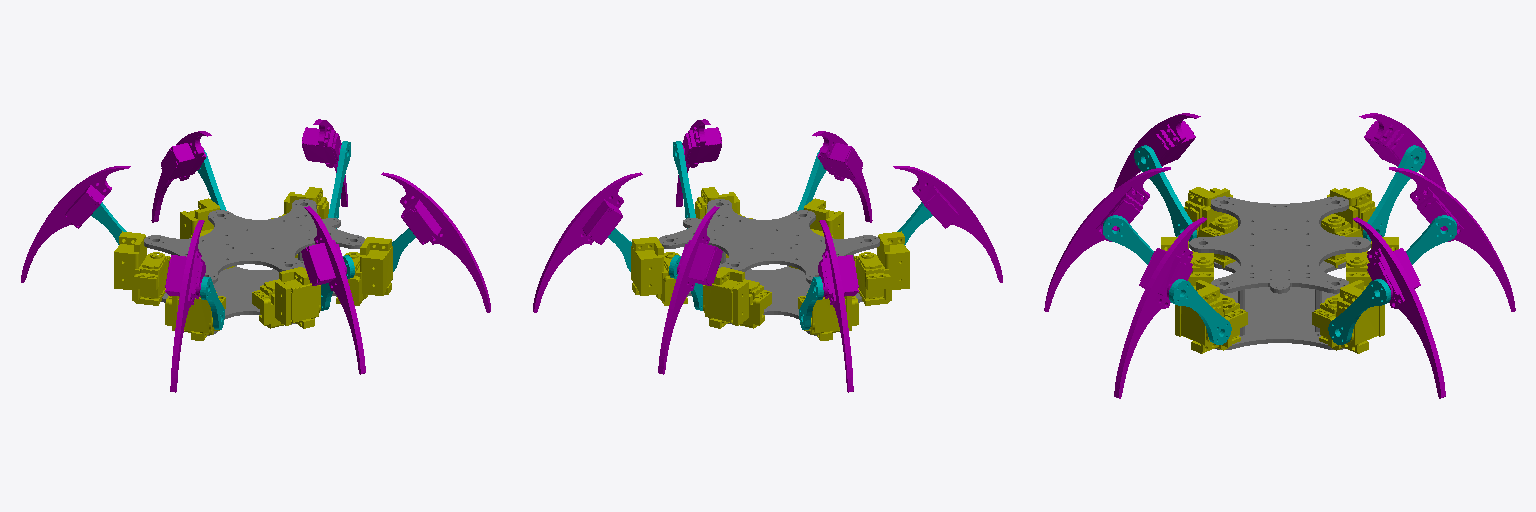
--- What the picture shows (computed from the rendered views, not written in the file) ---
Views: 3 orthographic renders of the robot side by side, from view 1: azimuth 30°, elevation 25°; view 2: azimuth 150°, elevation 25°; view 3: azimuth 270°, elevation 25°.
Model hexapod with 32 links and 31 joints (18 revolute, 13 fixed), rooted at base_link, posed every joint at zero.
Visible links, largest first — view 1: body, tibia_L1, coxa_L2, coxa_R3, tibia_L2, tibia_R3, tibia_L3, coxa_L1, tibia_R2, tibia_R1, coxa_L3, coxa_R2 (+4 smaller); view 2: body, tibia_R1, coxa_R2, coxa_L3, tibia_R2, tibia_L3, tibia_R3, coxa_R1, tibia_L2, tibia_L1, coxa_R3, coxa_L2 (+4 smaller); view 3: body, tibia_R1, tibia_L1, tibia_R2, tibia_L2, coxa_R1, coxa_L1, tibia_R3, tibia_L3, coxa_R3, coxa_L3, femur_R1 (+7 smaller).
Boxes of the visible links, box(x1,y1,x2,y2) form: body: box(144, 199, 364, 335); tibia_L1: box(381, 172, 490, 312); coxa_L2: box(252, 267, 320, 328); coxa_R3: box(114, 231, 170, 305); tibia_L2: box(301, 206, 365, 374); tibia_R3: box(21, 166, 130, 282); tibia_L3: box(165, 220, 205, 392); coxa_L1: box(336, 237, 392, 305); tibia_R2: box(151, 131, 211, 222); tibia_R1: box(302, 119, 347, 206); coxa_L3: box(165, 292, 225, 340); coxa_R2: box(180, 198, 234, 269); body: box(659, 199, 879, 335); tibia_R1: box(533, 172, 642, 312); coxa_R2: box(703, 267, 771, 328); coxa_L3: box(854, 231, 909, 305); tibia_R2: box(658, 206, 722, 374); tibia_L3: box(893, 166, 1002, 282); tibia_R3: box(818, 220, 858, 392); coxa_R1: box(631, 237, 687, 305); tibia_L2: box(812, 131, 872, 222); tibia_L1: box(676, 119, 721, 206); coxa_R3: box(798, 292, 858, 340); coxa_L2: box(789, 198, 843, 269); body: box(1189, 196, 1370, 349); tibia_R1: box(1353, 217, 1445, 398); tibia_L1: box(1114, 217, 1206, 398); tibia_R2: box(1389, 167, 1515, 311); tibia_L2: box(1044, 167, 1170, 311); coxa_R1: box(1312, 280, 1384, 353); coxa_L1: box(1175, 280, 1247, 353); tibia_R3: box(1359, 113, 1446, 190); tibia_L3: box(1113, 113, 1200, 190); coxa_R3: box(1321, 187, 1375, 267); coxa_L3: box(1184, 187, 1237, 267); femur_R1: box(1328, 279, 1390, 344).
Bounding box of the posed robot: 0.3835 × 0.4289 × 0.1431 m (x, y, z).
Meshes: 7 distinct files referenced, 19 mesh visuals loaded (7 binary STL).

The robot description file, URDF, robot "hexapod":
<?xml version="1.0" encoding="utf-8" ?>
<!-- =================================================================================== -->
<!-- |    This document was autogenerated by xacro from [local-path]/hexapod/src/hexapod_description/models/hexapod_model.xacro | -->
<!-- |    EDITING THIS FILE BY HAND IS NOT RECOMMENDED                                 | -->
<!-- =================================================================================== -->
<robot name="hexapod">
    <!-- Robot Frame -->
    <link name="base_link" />
    <joint name="base_joint" type="fixed">
        <parent link="base_link" />
        <child link="body" />
        <origin rpy="0 0 0" xyz="0 0 0" />
    </joint>
    <link name="body">
        
<inertial>
            <mass value="0.8" />
            <inertia ixx="0.007" ixy="0" ixz="0" iyy="0.012" iyz="0" izz="0.010" />
        </inertial>

        <visual>
            <origin rpy="0 0 0" xyz="0 0 0" />
            <geometry>
                <mesh filename="package://hexapod_description/meshes/BODY.stl" />
            </geometry>
            <material name="grey">
                <color rgba="0.5 0.5 0.5 1" />
            </material>
        </visual>
        <collision>
            <origin rpy="0 0 0" xyz="0 0 0" />
            <geometry>
                <mesh filename="package://hexapod_description/meshes/BODY_SIMPLIFIED.stl" />
            </geometry>
        </collision>
    </link>
    <!-- Construindo a perna [Building a leg]-->
    <joint name="leg_center_joint_R1" type="fixed">
        <origin rpy="0 0 0" xyz="0.0875 0.050175 0" />
        <parent link="body" />
        <child link="leg_center_R1" />
    </joint>
    <link name="leg_center_R1" />
    <joint name="coxa_joint_R1" type="revolute">
        <origin rpy="0 0 2.35619449019" xyz="0 0 0" />
        <parent link="leg_center_R1" />
        <child link="coxa_R1" />
        <axis xyz="0 0 -1" />
        <limit effort="10000" lower="-1.5" upper="1.5" velocity="100" />
    </joint>
    <link name="coxa_R1">
        
<inertial>
            <mass value="0.5" />
            <inertia ixx="0.001" ixy="0" ixz="0" iyy="0" iyz="0" izz="0.001" />
        </inertial>

        <visual>
            <origin rpy="0 0 0" xyz="0 0 0" />
            <geometry>
                <mesh filename="package://hexapod_description/meshes/COXA_R.stl" />
            </geometry>
            <material name="">
                <color rgba="0.7 0.7 0 1" />
            </material>
        </visual>
        <collision>
            <origin rpy="0 0 0" xyz="0 0 0" />
            <geometry>
                <mesh filename="package://hexapod_description/meshes/COXA_R_SIMPLIFIED.stl" />
            </geometry>
        </collision>
    </link>
    <joint name="femur_joint_R1" type="revolute">
        <origin rpy="-0.9 0 0" xyz="-0.022 -0.028 0.0274" />
        <parent link="coxa_R1" />
        <child link="femur_R1" />
        <axis xyz="-1 0 0" />
        <limit effort="10000" lower="-0.52" upper="0.61" velocity="100" />
    </joint>
    <link name="femur_R1">
        
<inertial>
            <mass value="0.05" />
            <inertia ixx="0" ixy="0" ixz="0" iyy="0" iyz="0" izz="0" />
        </inertial>

        <visual>
            <origin rpy="0 0 0" xyz="0 0 0" />
            <geometry>
                <mesh filename="package://hexapod_description/meshes/FEMUR_R.stl" />
            </geometry>
            <material name="">
                <color rgba="0 0.7 0.7 1" />
            </material>
        </visual>
        <collision>
            <origin rpy="0 0 0" xyz="0 0 0" />
            <geometry>
                <mesh filename="package://hexapod_description/meshes/FEMUR_R_SIMPLIFIED.stl" />
            </geometry>
        </collision>
    </link>
    <joint name="tibia_joint_R1" type="revolute">
        <origin rpy="1.3 0 0" xyz="0.003 -0.0765 -0.0055" />
        <parent link="femur_R1" />
        <child link="tibia_R1" />
        <axis xyz="1 0 0" />
        <limit effort="10000" lower="-0.87" upper="1.22" velocity="100" />
    </joint>
    <link name="tibia_R1">
        
<inertial>
            <mass value="0.2" />
            <inertia ixx="0" ixy="0" ixz="0" iyy="0" iyz="0" izz="0" />
        </inertial>

        <visual>
            <origin rpy="0 0 0" xyz="0 0 0" />
            <geometry>
                <mesh filename="package://hexapod_description/meshes/TIBIA_R.stl" />
            </geometry>
            <material name="">
                <color rgba="0.7 0 0.7 1" />
            </material>
        </visual>
        <collision>
            <origin rpy="0 0 0" xyz="0 0 0" />
            <geometry>
                <mesh filename="package://hexapod_description/meshes/TIBIA_R_SIMPLIFIED.stl" />
            </geometry>
        </collision>
    </link>
    <joint name="tibia_foot_joint_R1" type="fixed">
        <origin rpy="0 0 0" xyz="0 0.100 -0.094" />
        <parent link="tibia_R1" />
        <child link="tibia_foot_R1" />
    </joint>
    <link name="tibia_foot_R1" />
    <!-- Construindo a perna [Building a leg]-->
    <joint name="leg_center_joint_R2" type="fixed">
        <origin rpy="0 0 0" xyz="0 0.07 0" />
        <parent link="body" />
        <child link="leg_center_R2" />
    </joint>
    <link name="leg_center_R2" />
    <joint name="coxa_joint_R2" type="revolute">
        <origin rpy="0 0 3.14159265359" xyz="0 0 0" />
        <parent link="leg_center_R2" />
        <child link="coxa_R2" />
        <axis xyz="0 0 -1" />
        <limit effort="10000" lower="-1.5" upper="1.5" velocity="100" />
    </joint>
    <link name="coxa_R2">
        
<inertial>
            <mass value="0.5" />
            <inertia ixx="0.001" ixy="0" ixz="0" iyy="0" iyz="0" izz="0.001" />
        </inertial>

        <visual>
            <origin rpy="0 0 0" xyz="0 0 0" />
            <geometry>
                <mesh filename="package://hexapod_description/meshes/COXA_R.stl" />
            </geometry>
            <material name="">
                <color rgba="0.7 0.7 0 1" />
            </material>
        </visual>
        <collision>
            <origin rpy="0 0 0" xyz="0 0 0" />
            <geometry>
                <mesh filename="package://hexapod_description/meshes/COXA_R_SIMPLIFIED.stl" />
            </geometry>
        </collision>
    </link>
    <joint name="femur_joint_R2" type="revolute">
        <origin rpy="-0.9 0 0" xyz="-0.022 -0.028 0.0274" />
        <parent link="coxa_R2" />
        <child link="femur_R2" />
        <axis xyz="-1 0 0" />
        <limit effort="10000" lower="-0.52" upper="0.61" velocity="100" />
    </joint>
    <link name="femur_R2">
        
<inertial>
            <mass value="0.05" />
            <inertia ixx="0" ixy="0" ixz="0" iyy="0" iyz="0" izz="0" />
        </inertial>

        <visual>
            <origin rpy="0 0 0" xyz="0 0 0" />
            <geometry>
                <mesh filename="package://hexapod_description/meshes/FEMUR_R.stl" />
            </geometry>
            <material name="">
                <color rgba="0 0.7 0.7 1" />
            </material>
        </visual>
        <collision>
            <origin rpy="0 0 0" xyz="0 0 0" />
            <geometry>
                <mesh filename="package://hexapod_description/meshes/FEMUR_R_SIMPLIFIED.stl" />
            </geometry>
        </collision>
    </link>
    <joint name="tibia_joint_R2" type="revolute">
        <origin rpy="1.3 0 0" xyz="0.003 -0.0765 -0.0055" />
        <parent link="femur_R2" />
        <child link="tibia_R2" />
        <axis xyz="1 0 0" />
        <limit effort="10000" lower="-0.87" upper="1.22" velocity="100" />
    </joint>
    <link name="tibia_R2">
        
<inertial>
            <mass value="0.2" />
            <inertia ixx="0" ixy="0" ixz="0" iyy="0" iyz="0" izz="0" />
        </inertial>

        <visual>
            <origin rpy="0 0 0" xyz="0 0 0" />
            <geometry>
                <mesh filename="package://hexapod_description/meshes/TIBIA_R.stl" />
            </geometry>
            <material name="">
                <color rgba="0.7 0 0.7 1" />
            </material>
        </visual>
        <collision>
            <origin rpy="0 0 0" xyz="0 0 0" />
            <geometry>
                <mesh filename="package://hexapod_description/meshes/TIBIA_R_SIMPLIFIED.stl" />
            </geometry>
        </collision>
    </link>
    <joint name="tibia_foot_joint_R2" type="fixed">
        <origin rpy="0 0 0" xyz="0 0.100 -0.094" />
        <parent link="tibia_R2" />
        <child link="tibia_foot_R2" />
    </joint>
    <link name="tibia_foot_R2" />
    <!-- Construindo a perna [Building a leg]-->
    <joint name="leg_center_joint_R3" type="fixed">
        <origin rpy="0 0 0" xyz="-0.0875 0.050175 0" />
        <parent link="body" />
        <child link="leg_center_R3" />
    </joint>
    <link name="leg_center_R3" />
    <joint name="coxa_joint_R3" type="revolute">
        <origin rpy="0 0 3.92699081699" xyz="0 0 0" />
        <parent link="leg_center_R3" />
        <child link="coxa_R3" />
        <axis xyz="0 0 -1" />
        <limit effort="10000" lower="-1.5" upper="1.5" velocity="100" />
    </joint>
    <link name="coxa_R3">
        
<inertial>
            <mass value="0.5" />
            <inertia ixx="0.001" ixy="0" ixz="0" iyy="0" iyz="0" izz="0.001" />
        </inertial>

        <visual>
            <origin rpy="0 0 0" xyz="0 0 0" />
            <geometry>
                <mesh filename="package://hexapod_description/meshes/COXA_R.stl" />
            </geometry>
            <material name="">
                <color rgba="0.7 0.7 0 1" />
            </material>
        </visual>
        <collision>
            <origin rpy="0 0 0" xyz="0 0 0" />
            <geometry>
                <mesh filename="package://hexapod_description/meshes/COXA_R_SIMPLIFIED.stl" />
            </geometry>
        </collision>
    </link>
    <joint name="femur_joint_R3" type="revolute">
        <origin rpy="-0.9 0 0" xyz="-0.022 -0.028 0.0274" />
        <parent link="coxa_R3" />
        <child link="femur_R3" />
        <axis xyz="-1 0 0" />
        <limit effort="10000" lower="-0.52" upper="0.61" velocity="100" />
    </joint>
    <link name="femur_R3">
        
<inertial>
            <mass value="0.05" />
            <inertia ixx="0" ixy="0" ixz="0" iyy="0" iyz="0" izz="0" />
        </inertial>

        <visual>
            <origin rpy="0 0 0" xyz="0 0 0" />
            <geometry>
                <mesh filename="package://hexapod_description/meshes/FEMUR_R.stl" />
            </geometry>
            <material name="">
                <color rgba="0 0.7 0.7 1" />
            </material>
        </visual>
        <collision>
            <origin rpy="0 0 0" xyz="0 0 0" />
            <geometry>
                <mesh filename="package://hexapod_description/meshes/FEMUR_R_SIMPLIFIED.stl" />
            </geometry>
        </collision>
    </link>
    <joint name="tibia_joint_R3" type="revolute">
        <origin rpy="1.3 0 0" xyz="0.003 -0.0765 -0.0055" />
        <parent link="femur_R3" />
        <child link="tibia_R3" />
        <axis xyz="1 0 0" />
        <limit effort="10000" lower="-0.87" upper="1.22" velocity="100" />
    </joint>
    <link name="tibia_R3">
        
<inertial>
            <mass value="0.2" />
            <inertia ixx="0" ixy="0" ixz="0" iyy="0" iyz="0" izz="0" />
        </inertial>

        <visual>
            <origin rpy="0 0 0" xyz="0 0 0" />
            <geometry>
                <mesh filename="package://hexapod_description/meshes/TIBIA_R.stl" />
            </geometry>
            <material name="">
                <color rgba="0.7 0 0.7 1" />
            </material>
        </visual>
        <collision>
            <origin rpy="0 0 0" xyz="0 0 0" />
            <geometry>
                <mesh filename="package://hexapod_description/meshes/TIBIA_R_SIMPLIFIED.stl" />
            </geometry>
        </collision>
    </link>
    <joint name="tibia_foot_joint_R3" type="fixed">
        <origin rpy="0 0 0" xyz="0 0.100 -0.094" />
        <parent link="tibia_R3" />
        <child link="tibia_foot_R3" />
    </joint>
    <link name="tibia_foot_R3" />
    <!-- Construindo a perna [Building a leg]-->
    <joint name="leg_center_joint_L1" type="fixed">
        <origin rpy="0 0 0" xyz="0.0875 -0.050175 0" />
        <parent link="body" />
        <child link="leg_center_L1" />
    </joint>
    <link name="leg_center_L1" />
    <joint name="coxa_joint_L1" type="revolute">
        <origin rpy="0 0 -2.35619449019" xyz="0 0 0" />
        <parent link="leg_center_L1" />
        <child link="coxa_L1" />
        <axis xyz="0 0 -1" />
        <limit effort="10000" lower="-1.5" upper="1.5" velocity="100" />
    </joint>
    <link name="coxa_L1">
        
<inertial>
            <mass value="0.5" />
            <inertia ixx="0.001" ixy="0" ixz="0" iyy="0" iyz="0" izz="0.001" />
        </inertial>

        <visual>
            <origin rpy="0 0 0" xyz="0 0 0" />
            <geometry>
                <mesh filename="package://hexapod_description/meshes/COXA_L.stl" />
            </geometry>
            <material name="">
                <color rgba="0.7 0.7 0 1" />
            </material>
        </visual>
        <collision>
            <origin rpy="0 0 0" xyz="0 0 0" />
            <geometry>
                <mesh filename="package://hexapod_description/meshes/COXA_L_SIMPLIFIED.stl" />
            </geometry>
        </collision>
    </link>
    <joint name="femur_joint_L1" type="revolute">
        <origin rpy="0.9 0 0" xyz="-0.022 0.028 0.0274" />
        <parent link="coxa_L1" />
        <child link="femur_L1" />
        <axis xyz="-1 0 0" />
        <limit effort="10000" lower="-0.52" upper="0.61" velocity="100" />
    </joint>
    <link name="femur_L1">
        
<inertial>
            <mass value="0.05" />
            <inertia ixx="0" ixy="0" ixz="0" iyy="0" iyz="0" izz="0" />
        </inertial>

        <visual>
            <origin rpy="0 0 0" xyz="0 0 0" />
            <geometry>
                <mesh filename="package://hexapod_description/meshes/FEMUR_L.stl" />
            </geometry>
            <material name="">
                <color rgba="0 0.7 0.7 1" />
            </material>
        </visual>
        <collision>
            <origin rpy="0 0 0" xyz="0 0 0" />
            <geometry>
                <mesh filename="package://hexapod_description/meshes/FEMUR_L_SIMPLIFIED.stl" />
            </geometry>
        </collision>
    </link>
    <joint name="tibia_joint_L1" type="revolute">
        <origin rpy="-1.3 0 0" xyz="0.003 0.0765 -0.0055" />
        <parent link="femur_L1" />
        <child link="tibia_L1" />
        <axis xyz="1 0 0" />
        <limit effort="10000" lower="-0.87" upper="1.22" velocity="100" />
    </joint>
    <link name="tibia_L1">
        
<inertial>
            <mass value="0.2" />
            <inertia ixx="0" ixy="0" ixz="0" iyy="0" iyz="0" izz="0" />
        </inertial>

        <visual>
            <origin rpy="0 0 0" xyz="0 0 0" />
            <geometry>
                <mesh filename="package://hexapod_description/meshes/TIBIA_L.stl" />
            </geometry>
            <material name="">
                <color rgba="0.7 0 0.7 1" />
            </material>
        </visual>
        <collision>
            <origin rpy="0 0 0" xyz="0 0 0" />
            <geometry>
                <mesh filename="package://hexapod_description/meshes/TIBIA_L_SIMPLIFIED.stl" />
            </geometry>
        </collision>
    </link>
    <joint name="tibia_foot_joint_L1" type="fixed">
        <origin rpy="0 0 0" xyz="0 0.100 -0.094" />
        <parent link="tibia_L1" />
        <child link="tibia_foot_L1" />
    </joint>
    <link name="tibia_foot_L1" />
    <!-- Construindo a perna [Building a leg]-->
    <joint name="leg_center_joint_L2" type="fixed">
        <origin rpy="0 0 0" xyz="0 -0.07 0" />
        <parent link="body" />
        <child link="leg_center_L2" />
    </joint>
    <link name="leg_center_L2" />
    <joint name="coxa_joint_L2" type="revolute">
        <origin rpy="0 0 -3.14159265359" xyz="0 0 0" />
        <parent link="leg_center_L2" />
        <child link="coxa_L2" />
        <axis xyz="0 0 -1" />
        <limit effort="10000" lower="-1.5" upper="1.5" velocity="100" />
    </joint>
    <link name="coxa_L2">
        
<inertial>
            <mass value="0.5" />
            <inertia ixx="0.001" ixy="0" ixz="0" iyy="0" iyz="0" izz="0.001" />
        </inertial>

        <visual>
            <origin rpy="0 0 0" xyz="0 0 0" />
            <geometry>
                <mesh filename="package://hexapod_description/meshes/COXA_L.stl" />
            </geometry>
            <material name="">
                <color rgba="0.7 0.7 0 1" />
            </material>
        </visual>
        <collision>
            <origin rpy="0 0 0" xyz="0 0 0" />
            <geometry>
                <mesh filename="package://hexapod_description/meshes/COXA_L_SIMPLIFIED.stl" />
            </geometry>
        </collision>
    </link>
    <joint name="femur_joint_L2" type="revolute">
        <origin rpy="0.9 0 0" xyz="-0.022 0.028 0.0274" />
        <parent link="coxa_L2" />
        <child link="femur_L2" />
        <axis xyz="-1 0 0" />
        <limit effort="10000" lower="-0.52" upper="0.61" velocity="100" />
    </joint>
    <link name="femur_L2">
        
<inertial>
            <mass value="0.05" />
            <inertia ixx="0" ixy="0" ixz="0" iyy="0" iyz="0" izz="0" />
        </inertial>

        <visual>
            <origin rpy="0 0 0" xyz="0 0 0" />
            <geometry>
                <mesh filename="package://hexapod_description/meshes/FEMUR_L.stl" />
            </geometry>
            <material name="">
                <color rgba="0 0.7 0.7 1" />
            </material>
        </visual>
        <collision>
            <origin rpy="0 0 0" xyz="0 0 0" />
            <geometry>
                <mesh filename="package://hexapod_description/meshes/FEMUR_L_SIMPLIFIED.stl" />
            </geometry>
        </collision>
    </link>
    <joint name="tibia_joint_L2" type="revolute">
        <origin rpy="-1.3 0 0" xyz="0.003 0.0765 -0.0055" />
        <parent link="femur_L2" />
        <child link="tibia_L2" />
        <axis xyz="1 0 0" />
        <limit effort="10000" lower="-0.87" upper="1.22" velocity="100" />
    </joint>
    <link name="tibia_L2">
        
<inertial>
            <mass value="0.2" />
            <inertia ixx="0" ixy="0" ixz="0" iyy="0" iyz="0" izz="0" />
        </inertial>

        <visual>
            <origin rpy="0 0 0" xyz="0 0 0" />
            <geometry>
                <mesh filename="package://hexapod_description/meshes/TIBIA_L.stl" />
            </geometry>
            <material name="">
                <color rgba="0.7 0 0.7 1" />
            </material>
        </visual>
        <collision>
            <origin rpy="0 0 0" xyz="0 0 0" />
            <geometry>
                <mesh filename="package://hexapod_description/meshes/TIBIA_L_SIMPLIFIED.stl" />
            </geometry>
        </collision>
    </link>
    <joint name="tibia_foot_joint_L2" type="fixed">
        <origin rpy="0 0 0" xyz="0 0.100 -0.094" />
        <parent link="tibia_L2" />
        <child link="tibia_foot_L2" />
    </joint>
    <link name="tibia_foot_L2" />
    <!-- Construindo a perna [Building a leg]-->
    <joint name="leg_center_joint_L3" type="fixed">
        <origin rpy="0 0 0" xyz="-0.0875 -0.050175 0" />
        <parent link="body" />
        <child link="leg_center_L3" />
    </joint>
    <link name="leg_center_L3" />
    <joint name="coxa_joint_L3" type="revolute">
        <origin rpy="0 0 -3.92699081699" xyz="0 0 0" />
        <parent link="leg_center_L3" />
        <child link="coxa_L3" />
        <axis xyz="0 0 -1" />
        <limit effort="10000" lower="-1.5" upper="1.5" velocity="100" />
    </joint>
    <link name="coxa_L3">
        
<inertial>
            <mass value="0.5" />
            <inertia ixx="0.001" ixy="0" ixz="0" iyy="0" iyz="0" izz="0.001" />
        </inertial>

        <visual>
            <origin rpy="0 0 0" xyz="0 0 0" />
            <geometry>
                <mesh filename="package://hexapod_description/meshes/COXA_L.stl" />
            </geometry>
            <material name="">
                <color rgba="0.7 0.7 0 1" />
            </material>
        </visual>
        <collision>
            <origin rpy="0 0 0" xyz="0 0 0" />
            <geometry>
                <mesh filename="package://hexapod_description/meshes/COXA_L_SIMPLIFIED.stl" />
            </geometry>
        </collision>
    </link>
    <joint name="femur_joint_L3" type="revolute">
        <origin rpy="0.9 0 0" xyz="-0.022 0.028 0.0274" />
        <parent link="coxa_L3" />
        <child link="femur_L3" />
        <axis xyz="-1 0 0" />
        <limit effort="10000" lower="-0.52" upper="0.61" velocity="100" />
    </joint>
    <link name="femur_L3">
        
<inertial>
            <mass value="0.05" />
            <inertia ixx="0" ixy="0" ixz="0" iyy="0" iyz="0" izz="0" />
        </inertial>

        <visual>
            <origin rpy="0 0 0" xyz="0 0 0" />
            <geometry>
                <mesh filename="package://hexapod_description/meshes/FEMUR_L.stl" />
            </geometry>
            <material name="">
                <color rgba="0 0.7 0.7 1" />
            </material>
        </visual>
        <collision>
            <origin rpy="0 0 0" xyz="0 0 0" />
            <geometry>
                <mesh filename="package://hexapod_description/meshes/FEMUR_L_SIMPLIFIED.stl" />
            </geometry>
        </collision>
    </link>
    <joint name="tibia_joint_L3" type="revolute">
        <origin rpy="-1.3 0 0" xyz="0.003 0.0765 -0.0055" />
        <parent link="femur_L3" />
        <child link="tibia_L3" />
        <axis xyz="1 0 0" />
        <limit effort="10000" lower="-0.87" upper="1.22" velocity="100" />
    </joint>
    <link name="tibia_L3">
        
<inertial>
            <mass value="0.2" />
            <inertia ixx="0" ixy="0" ixz="0" iyy="0" iyz="0" izz="0" />
        </inertial>

        <visual>
            <origin rpy="0 0 0" xyz="0 0 0" />
            <geometry>
                <mesh filename="package://hexapod_description/meshes/TIBIA_L.stl" />
            </geometry>
            <material name="">
                <color rgba="0.7 0 0.7 1" />
            </material>
        </visual>
        <collision>
            <origin rpy="0 0 0" xyz="0 0 0" />
            <geometry>
                <mesh filename="package://hexapod_description/meshes/TIBIA_L_SIMPLIFIED.stl" />
            </geometry>
        </collision>
    </link>
    <joint name="tibia_foot_joint_L3" type="fixed">
        <origin rpy="0 0 0" xyz="0 0.100 -0.094" />
        <parent link="tibia_L3" />
        <child link="tibia_foot_L3" />
    </joint>
    <link name="tibia_foot_L3" />
    
<transmission name="trans_coxa_joint_R1">
        <type>transmission_interface/SimpleTransmission</type>
        <joint name="coxa_joint_R1">
            <hardwareInterface>hardware_interface/EffortJointInterface</hardwareInterface>
        </joint>
        <actuator name="coxa_joint_R1_motor">
            <hardwareInterface>hardware_interface/EffortJointInterface</hardwareInterface>
            <mechanicalReduction>1</mechanicalReduction>
        </actuator>
    </transmission>
    <transmission name="trans_femur_joint_R1">
        <type>transmission_interface/SimpleTransmission</type>
        <joint name="femur_joint_R1">
            <hardwareInterface>hardware_interface/EffortJointInterface</hardwareInterface>
        </joint>
        <actuator name="femur_joint_R1_motor">
            <hardwareInterface>hardware_interface/EffortJointInterface</hardwareInterface>
            <mechanicalReduction>1</mechanicalReduction>
        </actuator>
    </transmission>
    <transmission name="trans_tibia_joint_R1">
        <type>transmission_interface/SimpleTransmission</type>
        <joint name="tibia_joint_R1">
            <hardwareInterface>hardware_interface/EffortJointInterface</hardwareInterface>
        </joint>
        <actuator name="tibia_joint_R1_motor">
            <hardwareInterface>hardware_interface/EffortJointInterface</hardwareInterface>
            <mechanicalReduction>1</mechanicalReduction>
        </actuator>
    </transmission>
    <transmission name="trans_coxa_joint_R2">
        <type>transmission_interface/SimpleTransmission</type>
        <joint name="coxa_joint_R2">
            <hardwareInterface>hardware_interface/EffortJointInterface</hardwareInterface>
        </joint>
        <actuator name="coxa_joint_R2_motor">
            <hardwareInterface>hardware_interface/EffortJointInterface</hardwareInterface>
            <mechanicalReduction>1</mechanicalReduction>
        </actuator>
    </transmission>
    <transmission name="trans_femur_joint_R2">
        <type>transmission_interface/SimpleTransmission</type>
        <joint name="femur_joint_R2">
            <hardwareInterface>hardware_interface/EffortJointInterface</hardwareInterface>
        </joint>
        <actuator name="femur_joint_R2_motor">
            <hardwareInterface>hardware_interface/EffortJointInterface</hardwareInterface>
            <mechanicalReduction>1</mechanicalReduction>
        </actuator>
    </transmission>
    <transmission name="trans_tibia_joint_R2">
        <type>transmission_interface/SimpleTransmission</type>
        <joint name="tibia_joint_R2">
            <hardwareInterface>hardware_interface/EffortJointInterface</hardwareInterface>
        </joint>
        <actuator name="tibia_joint_R2_motor">
            <hardwareInterface>hardware_interface/EffortJointInterface</hardwareInterface>
            <mechanicalReduction>1</mechanicalReduction>
        </actuator>
    </transmission>
    <transmission name="trans_coxa_joint_R3">
        <type>transmission_interface/SimpleTransmission</type>
        <joint name="coxa_joint_R3">
            <hardwareInterface>hardware_interface/EffortJointInterface</hardwareInterface>
        </joint>
        <actuator name="coxa_joint_R3_motor">
            <hardwareInterface>hardware_interface/EffortJointInterface</hardwareInterface>
            <mechanicalReduction>1</mechanicalReduction>
        </actuator>
    </transmission>
    <transmission name="trans_femur_joint_R3">
        <type>transmission_interface/SimpleTransmission</type>
        <joint name="femur_joint_R3">
            <hardwareInterface>hardware_interface/EffortJointInterface</hardwareInterface>
        </joint>
        <actuator name="femur_joint_R3_motor">
            <hardwareInterface>hardware_interface/EffortJointInterface</hardwareInterface>
            <mechanicalReduction>1</mechanicalReduction>
        </actuator>
    </transmission>
    <transmission name="trans_tibia_joint_R3">
        <type>transmission_interface/SimpleTransmission</type>
        <joint name="tibia_joint_R3">
            <hardwareInterface>hardware_interface/EffortJointInterface</hardwareInterface>
        </joint>
        <actuator name="tibia_joint_R3_motor">
            <hardwareInterface>hardware_interface/EffortJointInterface</hardwareInterface>
            <mechanicalReduction>1</mechanicalReduction>
        </actuator>
    </transmission>
    <transmission name="trans_coxa_joint_L1">
        <type>transmission_interface/SimpleTransmission</type>
        <joint name="coxa_joint_L1">
            <hardwareInterface>hardware_interface/EffortJointInterface</hardwareInterface>
        </joint>
        <actuator name="coxa_joint_L1_motor">
            <hardwareInterface>hardware_interface/EffortJointInterface</hardwareInterface>
            <mechanicalReduction>1</mechanicalReduction>
        </actuator>
    </transmission>
    <transmission name="trans_femur_joint_L1">
        <type>transmission_interface/SimpleTransmission</type>
        <joint name="femur_joint_L1">
            <hardwareInterface>hardware_interface/EffortJointInterface</hardwareInterface>
        </joint>
        <actuator name="femur_joint_L1_motor">
            <hardwareInterface>hardware_interface/EffortJointInterface</hardwareInterface>
            <mechanicalReduction>1</mechanicalReduction>
        </actuator>
    </transmission>
    <transmission name="trans_tibia_joint_L1">
        <type>transmission_interface/SimpleTransmission</type>
        <joint name="tibia_joint_L1">
            <hardwareInterface>hardware_interface/EffortJointInterface</hardwareInterface>
        </joint>
        <actuator name="tibia_joint_L1_motor">
            <hardwareInterface>hardware_interface/EffortJointInterface</hardwareInterface>
            <mechanicalReduction>1</mechanicalReduction>
        </actuator>
    </transmission>
    <transmission name="trans_coxa_joint_L2">
        <type>transmission_interface/SimpleTransmission</type>
        <joint name="coxa_joint_L2">
            <hardwareInterface>hardware_interface/EffortJointInterface</hardwareInterface>
        </joint>
        <actuator name="coxa_joint_L2_motor">
            <hardwareInterface>hardware_interface/EffortJointInterface</hardwareInterface>
            <mechanicalReduction>1</mechanicalReduction>
        </actuator>
    </transmission>
    <transmission name="trans_femur_joint_L2">
        <type>transmission_interface/SimpleTransmission</type>
        <joint name="femur_joint_L2">
            <hardwareInterface>hardware_interface/EffortJointInterface</hardwareInterface>
        </joint>
        <actuator name="femur_joint_L2_motor">
            <hardwareInterface>hardware_interface/EffortJointInterface</hardwareInterface>
            <mechanicalReduction>1</mechanicalReduction>
        </actuator>
    </transmission>
    <transmission name="trans_tibia_joint_L2">
        <type>transmission_interface/SimpleTransmission</type>
        <joint name="tibia_joint_L2">
            <hardwareInterface>hardware_interface/EffortJointInterface</hardwareInterface>
        </joint>
        <actuator name="tibia_joint_L2_motor">
            <hardwareInterface>hardware_interface/EffortJointInterface</hardwareInterface>
            <mechanicalReduction>1</mechanicalReduction>
        </actuator>
    </transmission>
    <transmission name="trans_coxa_joint_L3">
        <type>transmission_interface/SimpleTransmission</type>
        <joint name="coxa_joint_L3">
            <hardwareInterface>hardware_interface/EffortJointInterface</hardwareInterface>
        </joint>
        <actuator name="coxa_joint_L3_motor">
            <hardwareInterface>hardware_interface/EffortJointInterface</hardwareInterface>
            <mechanicalReduction>1</mechanicalReduction>
        </actuator>
    </transmission>
    <transmission name="trans_femur_joint_L3">
        <type>transmission_interface/SimpleTransmission</type>
        <joint name="femur_joint_L3">
            <hardwareInterface>hardware_interface/EffortJointInterface</hardwareInterface>
        </joint>
        <actuator name="femur_joint_L3_motor">
            <hardwareInterface>hardware_interface/EffortJointInterface</hardwareInterface>
            <mechanicalReduction>1</mechanicalReduction>
        </actuator>
    </transmission>
    <transmission name="trans_tibia_joint_L3">
        <type>transmission_interface/SimpleTransmission</type>
        <joint name="tibia_joint_L3">
            <hardwareInterface>hardware_interface/EffortJointInterface</hardwareInterface>
        </joint>
        <actuator name="tibia_joint_L3_motor">
            <hardwareInterface>hardware_interface/EffortJointInterface</hardwareInterface>
            <mechanicalReduction>1</mechanicalReduction>
        </actuator>
    </transmission>
    <gazebo>
        <plugin name="gazebo_ros_control" filename="libgazebo_ros_control.so">
            <robotNamespace>/</robotNamespace>
        </plugin>
    </gazebo>
</robot>
